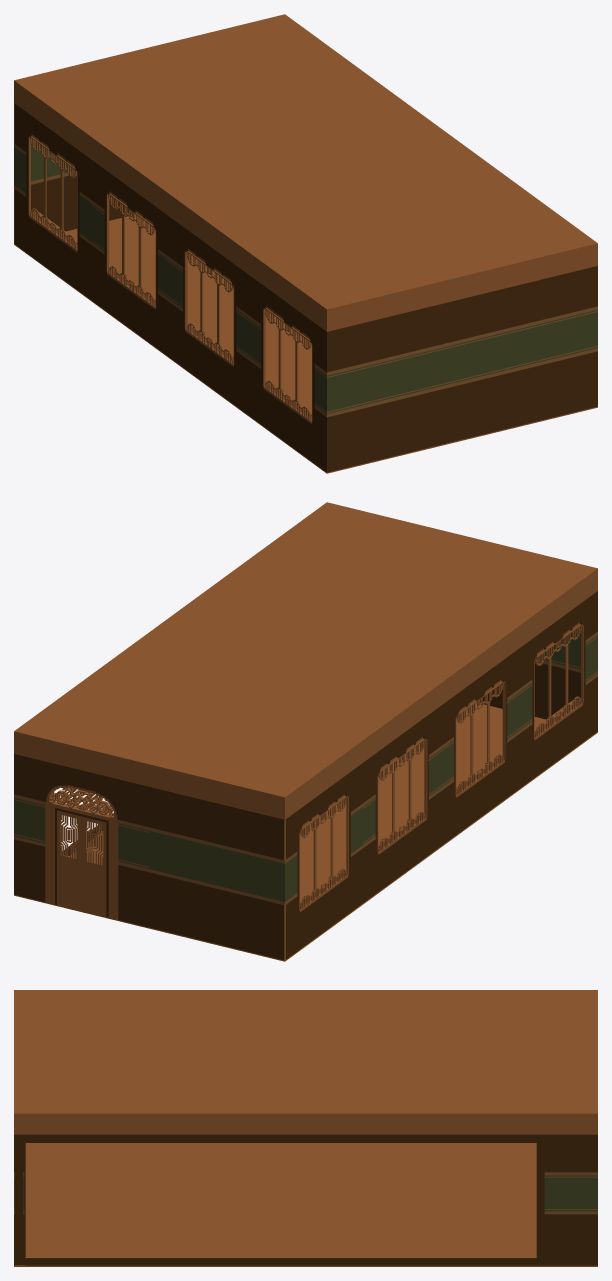
File: Hall.fbx
The picture shows the model from 3 angles, top to bottom: view 1: azimuth 30°, elevation 25°; view 2: azimuth 150°, elevation 25°; view 3: azimuth 270°, elevation 25°; orthographic projection. The views are drawn at different scales.
Parts seen in each view (by area): view 1: c6.001; view 2: c6.001; view 3: c6.001.
Part boxes in pixels (x1,y1,x2,y2): c6.001: (14, 14, 597, 473); c6.001: (14, 502, 597, 961); c6.001: (14, 990, 597, 1266).
Size of the model in its own units: 378 by 219 by 756.
